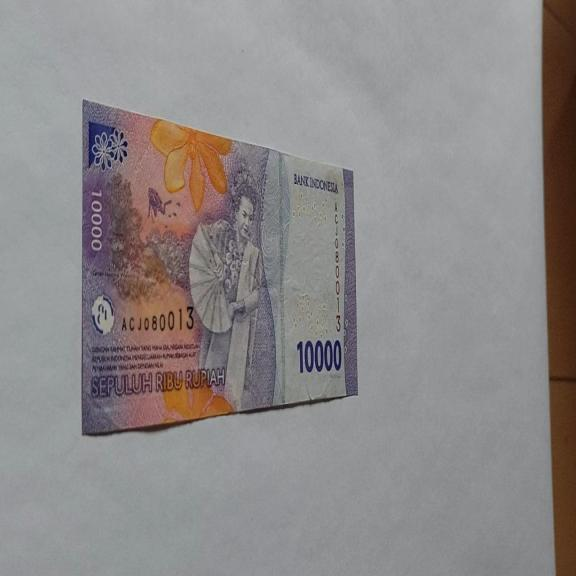Kertas: (80, 98, 358, 436)
